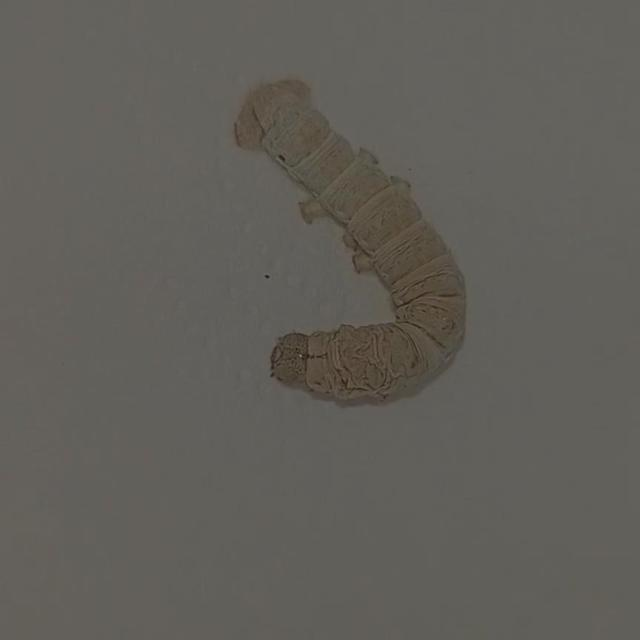Healthy: (199, 54, 483, 439)
